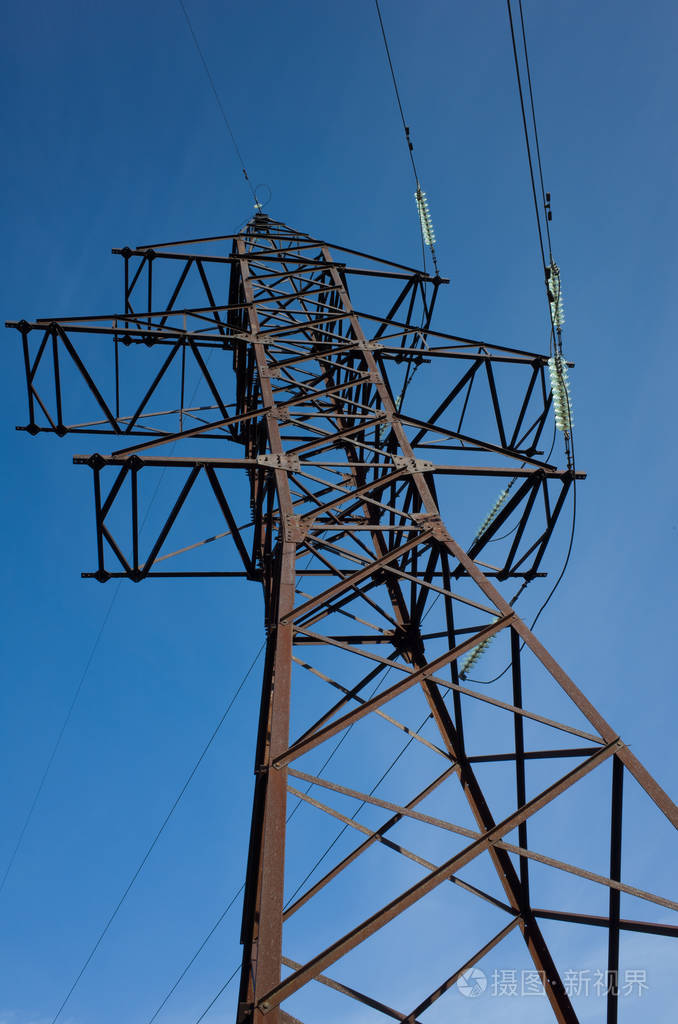insulator: (547, 353, 577, 435), (410, 188, 444, 250), (541, 262, 566, 326)
